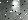person: (13, 1, 21, 13)
